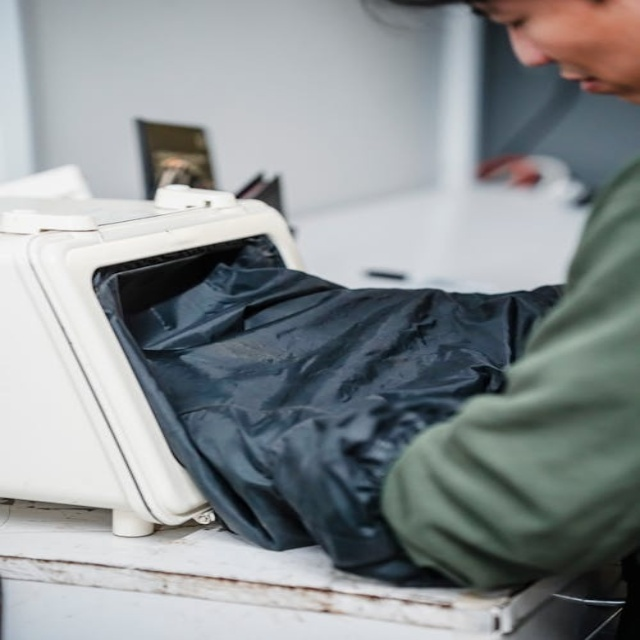Sin_gafas: (479, 1, 557, 32)
Sin_mascara: (544, 58, 636, 102)
